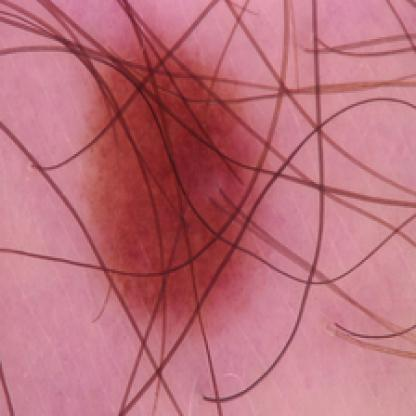benign: (78, 50, 266, 310)
